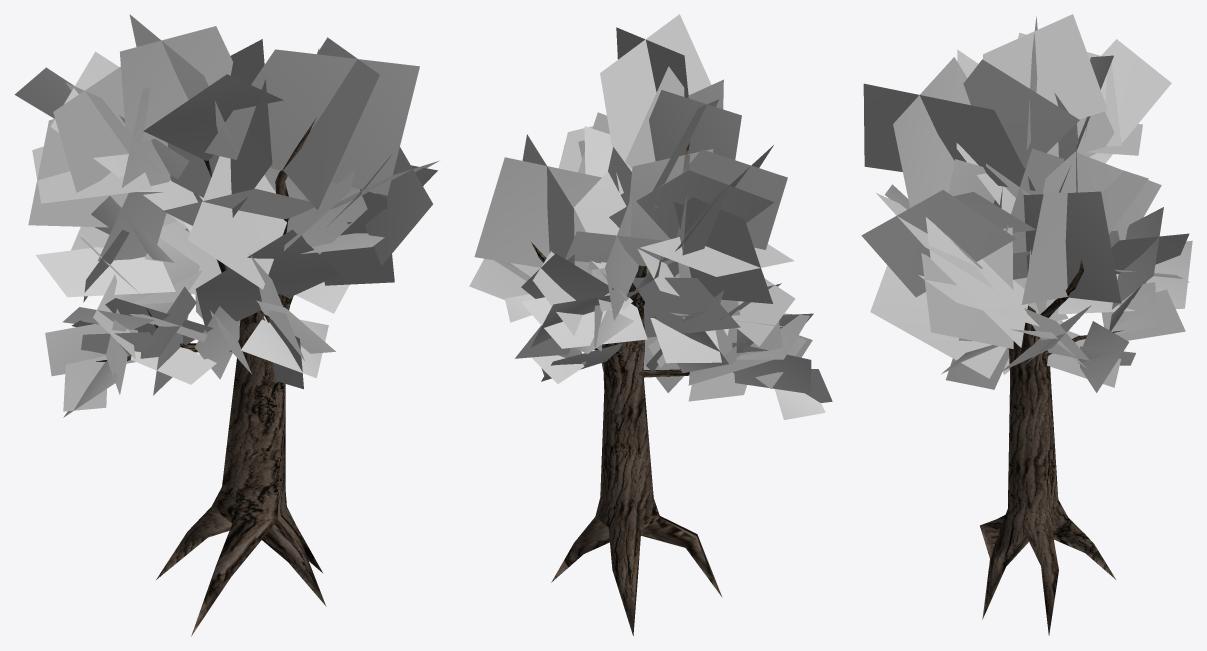
The model's file is Oak_01.fbx.
3 renders of one model, left to right at view 1: azimuth 30°, elevation 25°; view 2: azimuth 150°, elevation 25°; view 3: azimuth 270°, elevation 25°, orthographic. The views are drawn at different scales.
Visible parts, largest first — view 1: oak_01; view 2: oak_01; view 3: oak_01.
Part boxes in pixels (<box>): oak_01: <box>14,14,439,636</box>; oak_01: <box>469,14,832,635</box>; oak_01: <box>861,14,1192,635</box>.
Size of the model in its own units: 20.34 by 31.93 by 17.61.
